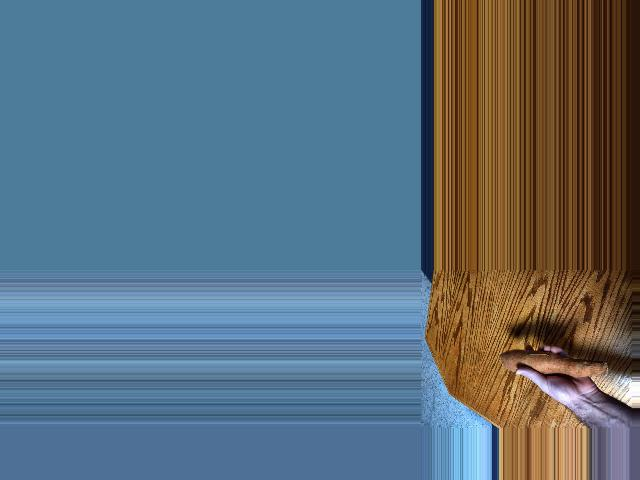sweet_potato: (494, 350, 610, 383)
